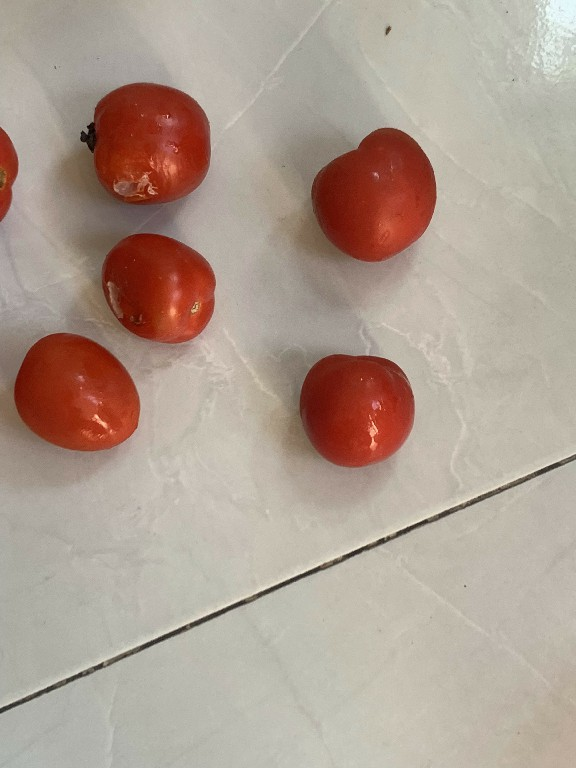NG: (68, 64, 213, 223), (84, 223, 223, 358)
OK: (300, 113, 445, 276), (282, 329, 424, 477), (4, 317, 147, 463)
